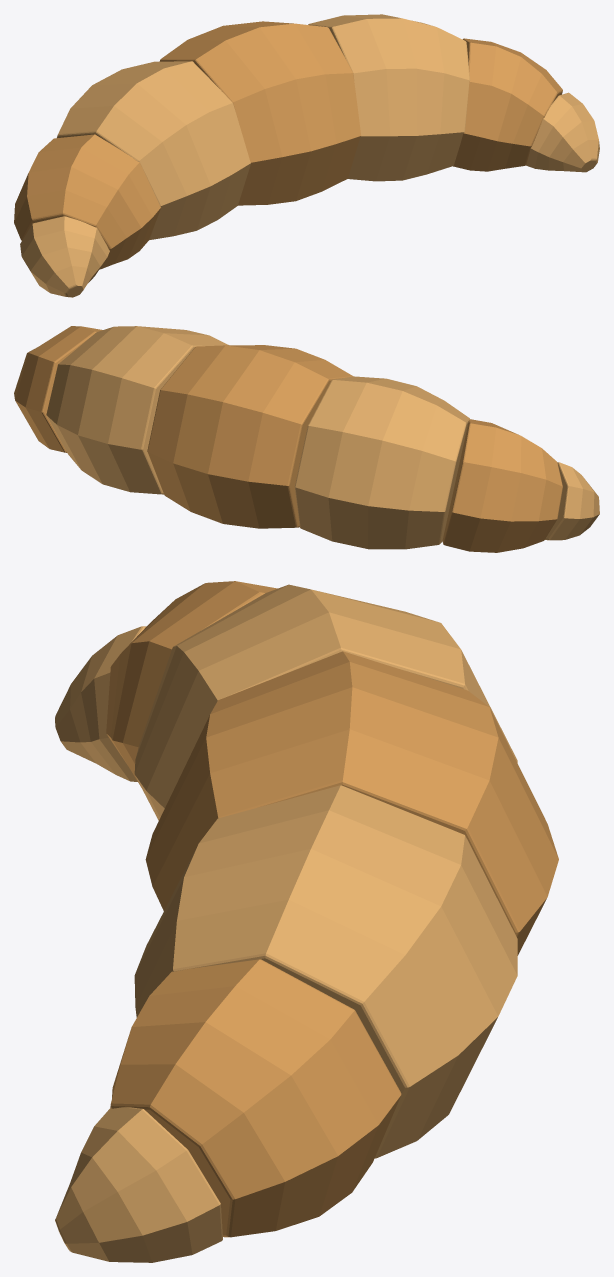
Rendered from croissant.fbx.
3 renders of one model, top to bottom at view 1: azimuth 30°, elevation 25°; view 2: azimuth 150°, elevation 25°; view 3: azimuth 270°, elevation 25°, orthographic. The views are drawn at different scales.
Parts seen in each view (by area): view 1: croissant; view 2: croissant; view 3: croissant.
Boxes of the visible parts, x1,y1,x2,y2 form: croissant: (14,14,599,297); croissant: (14,326,599,552); croissant: (55,581,558,1262).
Bounding box in the file's own units: 35 × 10.23 × 13.57.
